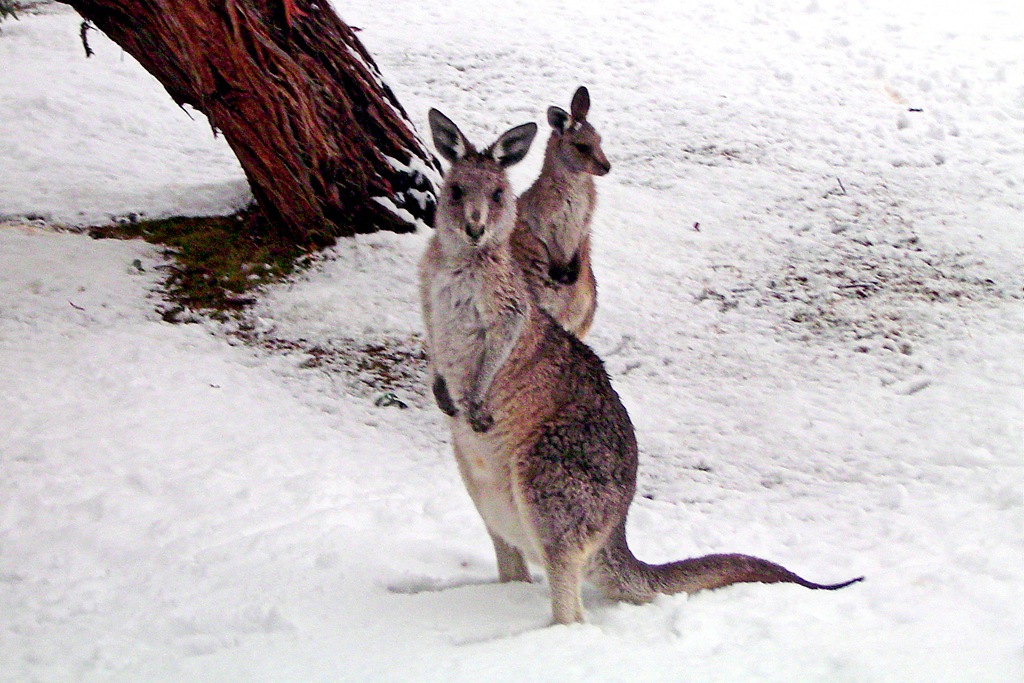kangaroo: (417, 106, 865, 624)
